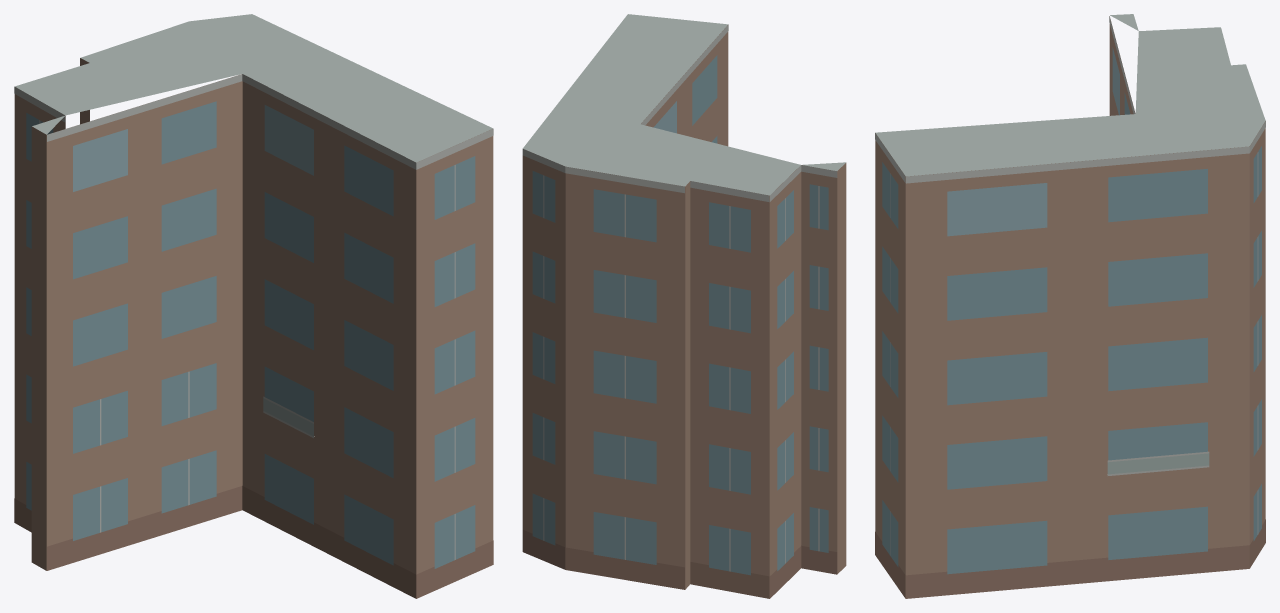
Rendered from survey-upis-32527456.glb.
3 views of the same model, side by side, from view 1: azimuth 30°, elevation 25°; view 2: azimuth 150°, elevation 25°; view 3: azimuth 270°, elevation 25° (orthographic). The views are drawn at different scales.
Visible parts, largest first — view 1: survey-upis-32527456.tmp; view 2: survey-upis-32527456.tmp; view 3: survey-upis-32527456.tmp.
Boxes of the visible parts, <box> form: survey-upis-32527456.tmp: <box>14,14,493,598</box>; survey-upis-32527456.tmp: <box>522,14,846,598</box>; survey-upis-32527456.tmp: <box>875,14,1265,598</box>.
Bounding box in the file's own units: 12.06 × 14.6 × 12.24.
